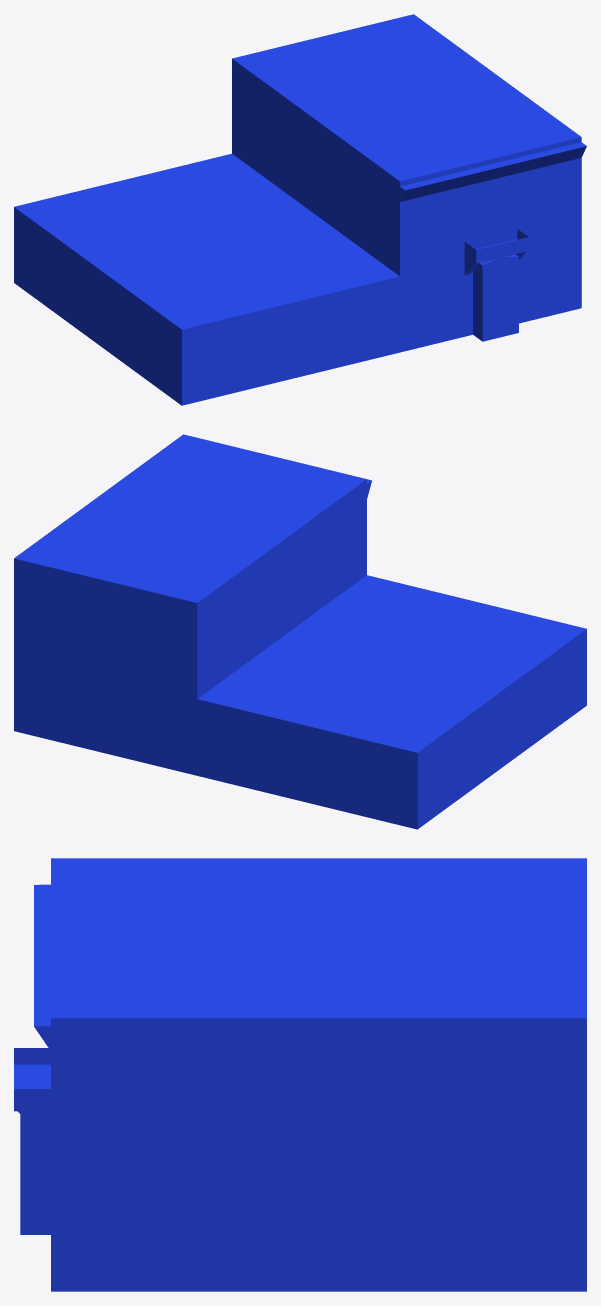
Rendered from court_house.glb.
The picture shows the model from 3 angles, top to bottom: view 1: azimuth 30°, elevation 25°; view 2: azimuth 150°, elevation 25°; view 3: azimuth 270°, elevation 25°; orthographic projection. The views are drawn at different scales.
Visible parts, largest first — view 1: Cube; view 2: Cube; view 3: Cube.
Boxes of the visible parts, x1,y1,x2,y2 form: Cube: (14,14,586,405); Cube: (14,434,586,829); Cube: (14,858,586,1291).
Bounding box in the file's own units: 22 × 9 × 17.1.
